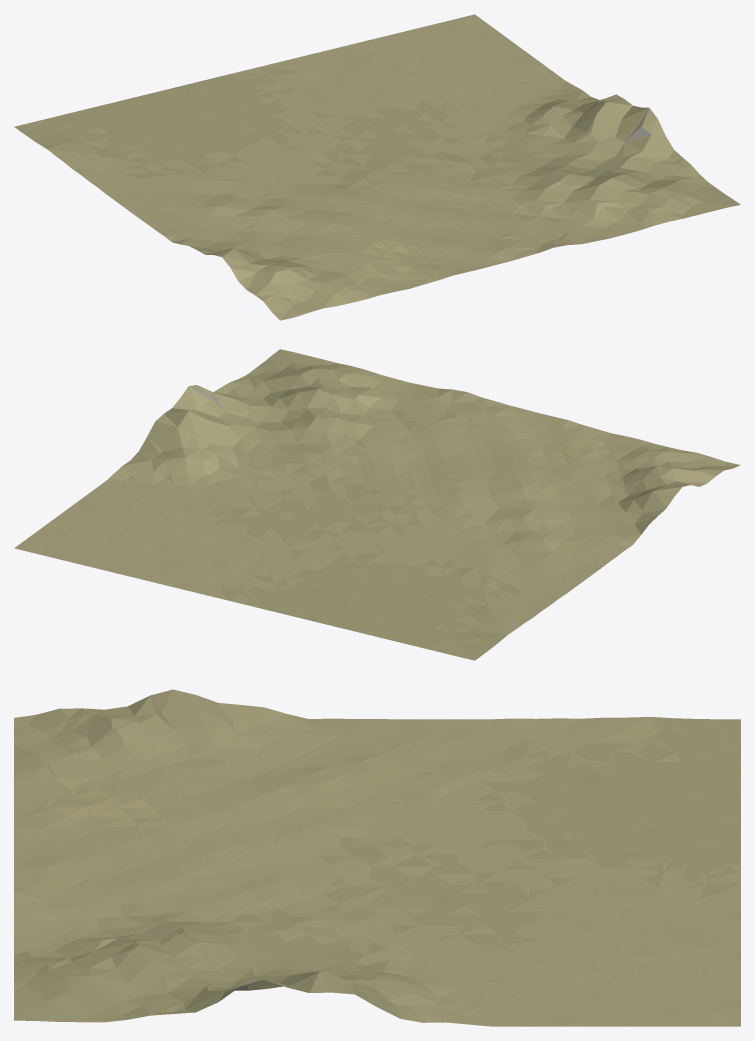
The model's file is Ground_-1_-6.glb.
3 renders of one model, top to bottom at view 1: azimuth 30°, elevation 25°; view 2: azimuth 150°, elevation 25°; view 3: azimuth 270°, elevation 25°, orthographic. The views are drawn at different scales.
Visible parts, largest first — view 1: Ground_-1_-6; view 2: Ground_-1_-6; view 3: Ground_-1_-6.
Part boxes in pixels (x1,y1,x2,y2): Ground_-1_-6: [14, 14, 740, 320]; Ground_-1_-6: [14, 349, 740, 660]; Ground_-1_-6: [14, 689, 740, 1026].
Bounding box in the file's own units: 768 × 54.64 × 768.
